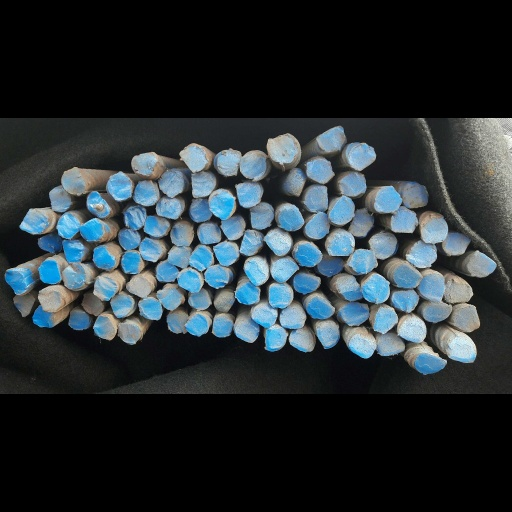dipstick: (239, 150, 269, 178), (267, 134, 297, 162), (405, 241, 436, 267), (362, 274, 389, 303), (420, 215, 447, 243), (328, 195, 354, 223), (447, 337, 476, 362), (4, 269, 34, 293), (264, 229, 291, 255), (349, 143, 375, 170), (336, 275, 363, 301), (369, 232, 396, 258), (419, 274, 445, 301), (349, 249, 377, 274), (348, 208, 373, 236), (398, 317, 426, 342), (375, 185, 401, 211), (453, 306, 479, 332), (180, 146, 207, 171), (191, 171, 216, 198), (393, 263, 420, 288), (61, 167, 85, 195), (445, 278, 473, 302), (468, 252, 496, 276), (340, 302, 369, 325), (133, 180, 159, 205), (209, 191, 234, 217), (306, 159, 332, 184), (107, 173, 131, 200), (339, 172, 366, 196), (19, 209, 47, 232), (236, 180, 259, 208), (415, 352, 445, 373), (403, 182, 428, 207), (155, 195, 181, 219), (159, 170, 183, 196), (244, 259, 268, 285), (271, 258, 297, 282), (305, 212, 329, 238), (295, 242, 321, 266), (349, 334, 375, 358), (391, 289, 418, 312), (442, 231, 469, 254), (170, 221, 194, 246), (221, 214, 245, 239), (48, 185, 71, 211), (86, 191, 109, 217), (131, 152, 157, 175), (375, 306, 398, 332), (317, 128, 344, 150), (317, 321, 339, 348), (422, 302, 451, 322), (62, 263, 85, 288), (93, 315, 116, 340), (217, 150, 240, 175), (251, 304, 276, 327), (278, 207, 303, 230), (328, 233, 353, 256), (318, 252, 343, 275), (391, 210, 416, 233), (305, 186, 327, 212), (307, 296, 333, 318), (377, 333, 403, 355), (56, 214, 79, 238), (235, 320, 259, 343), (268, 284, 291, 308), (290, 328, 314, 351), (250, 205, 273, 229), (280, 306, 305, 328), (240, 230, 262, 255), (285, 169, 306, 195), (94, 277, 117, 300), (189, 246, 212, 269), (110, 293, 132, 317), (157, 288, 181, 310), (124, 205, 146, 229), (80, 218, 103, 240), (38, 260, 60, 283), (33, 305, 56, 327), (118, 322, 141, 344), (139, 239, 161, 262), (189, 199, 212, 221), (138, 298, 162, 319), (197, 222, 221, 243), (167, 246, 189, 268), (13, 293, 34, 316), (177, 271, 200, 292), (213, 244, 236, 265), (205, 266, 228, 287), (265, 328, 286, 351), (236, 282, 259, 303), (37, 233, 62, 252), (126, 277, 151, 296), (294, 273, 320, 291), (38, 290, 60, 311), (62, 239, 83, 261), (82, 293, 103, 315), (144, 216, 169, 234), (93, 247, 114, 268), (118, 229, 140, 249), (156, 261, 177, 281), (167, 312, 188, 332), (186, 314, 207, 334), (188, 288, 209, 308), (214, 292, 235, 312), (68, 310, 90, 329), (121, 252, 140, 273), (213, 316, 232, 336)
